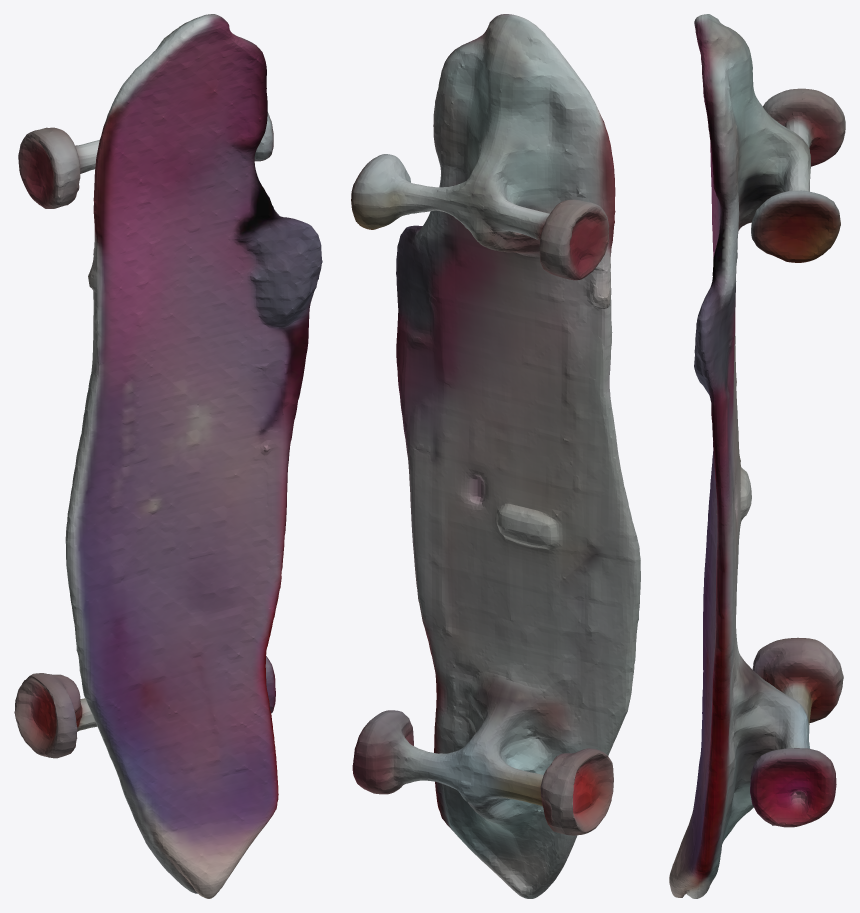
Rendered from skate_board.glb.
The picture shows the model from 3 angles, left to right: view 1: azimuth 30°, elevation 25°; view 2: azimuth 150°, elevation 25°; view 3: azimuth 270°, elevation 25°; orthographic projection.
Parts seen in each view (by area): view 1: skate_board.obj; view 2: skate_board.obj; view 3: skate_board.obj.
Part boxes in pixels (box(x1,y1,x2,y2)): skate_board.obj: box(14, 14, 322, 898); skate_board.obj: box(351, 14, 640, 898); skate_board.obj: box(669, 14, 845, 898).
Bounding box in the file's own units: 0.2988 × 1 × 0.1813.
